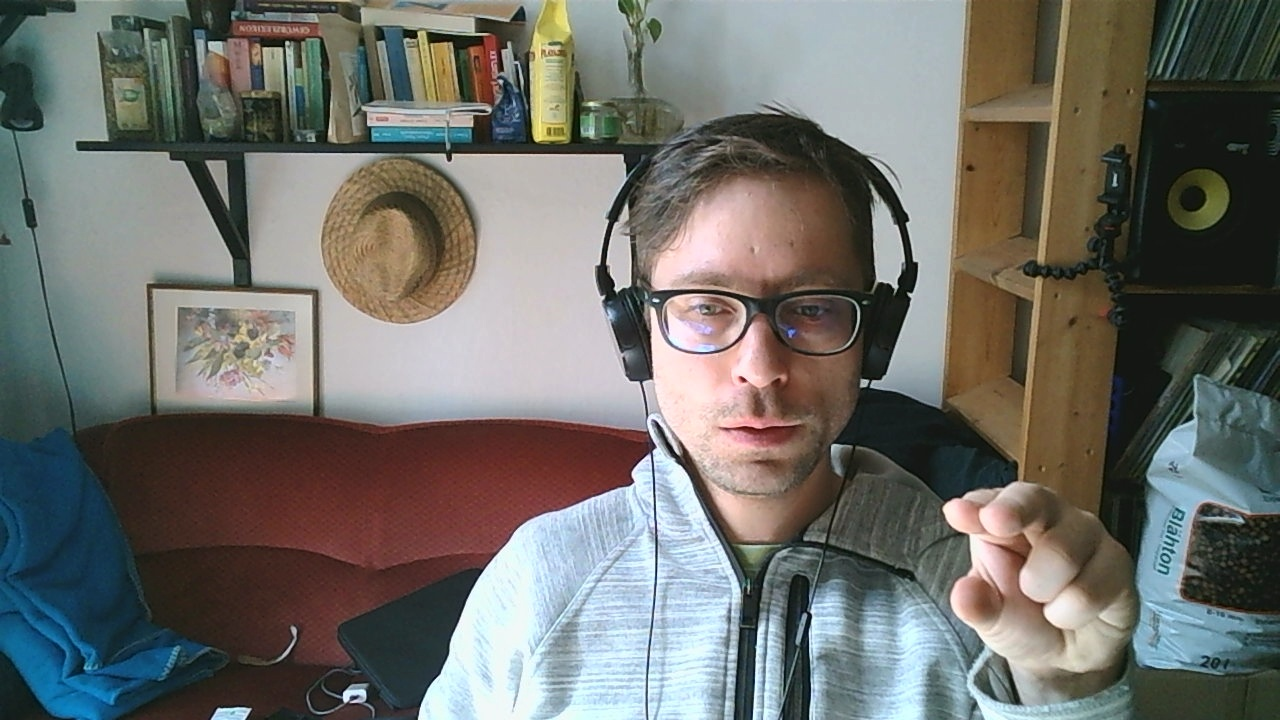no: (939, 482, 1145, 675)
